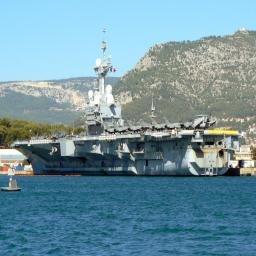Portanaves: (13, 27, 241, 179)
